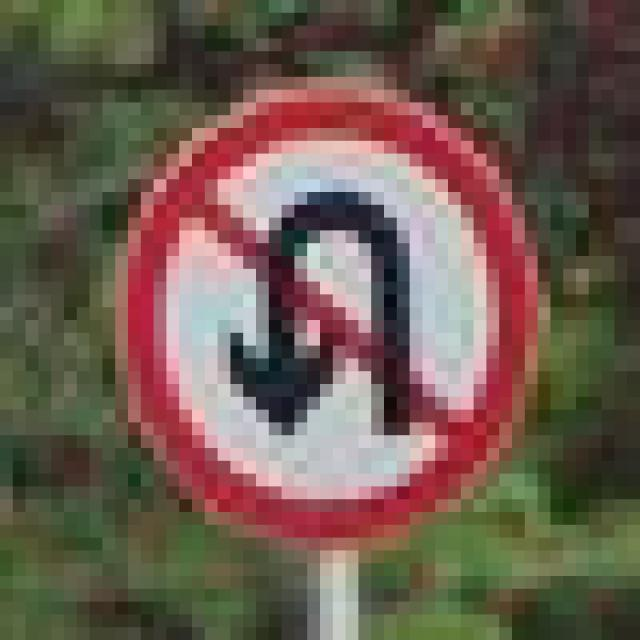U_TURN_PROHIBITED: (102, 77, 525, 525)
